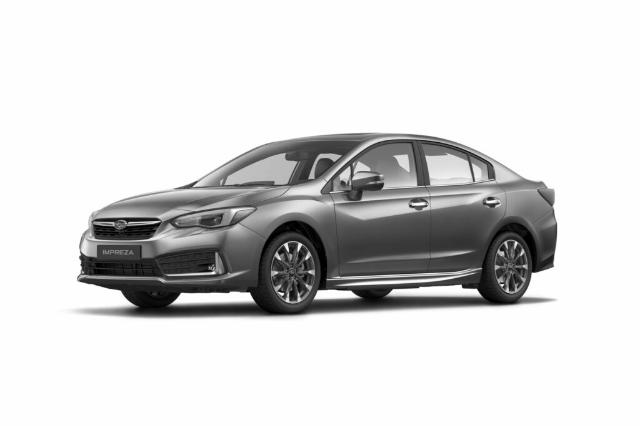sedan: (70, 123, 564, 320)
